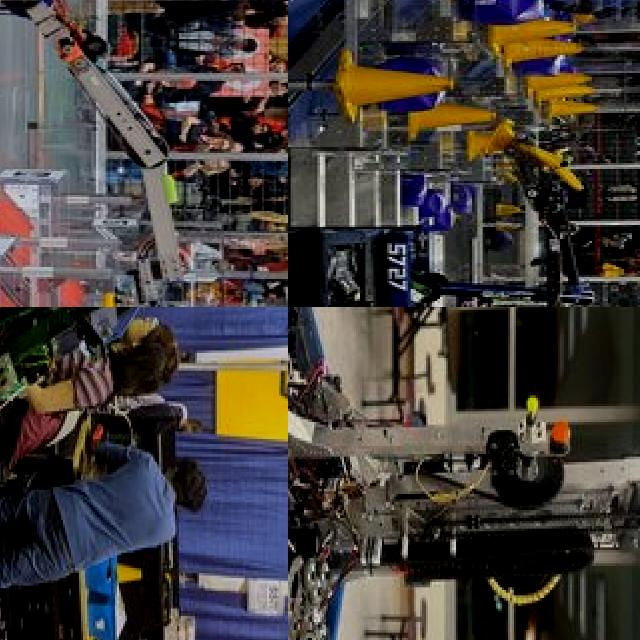FRC-Robots: (288, 307, 640, 640), (0, 307, 278, 609), (0, 0, 234, 307), (288, 135, 599, 307)
